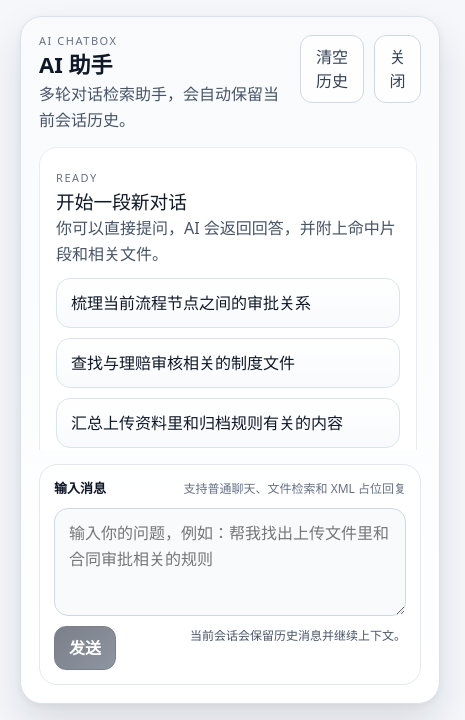
Test: AiAssistantPopover › renders the user message immediately before the assistant reply returns
Type "理赔流程" into the text box with test id "ai-question-input". click: (230, 562)
box: [54,508,406,616]
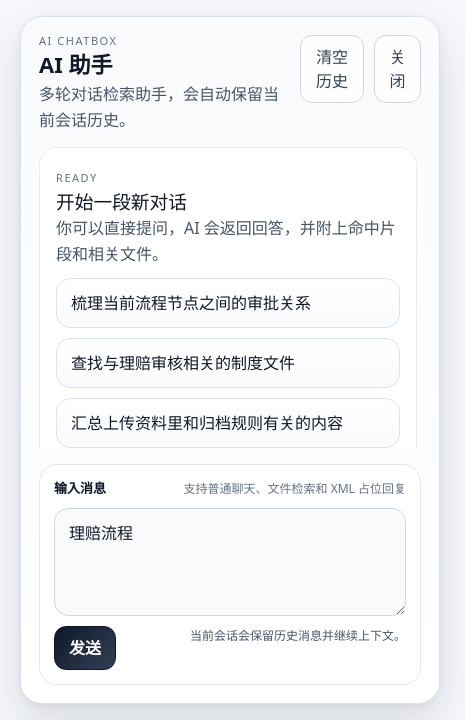
Click the button with test id "ai-submit". click: click(85, 648)
box: [54,626,116,670]
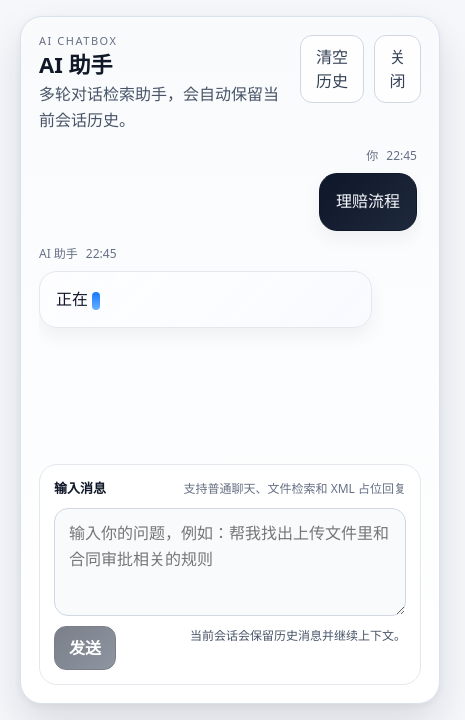
Result: the text "理赔流程" is shown at [336,188,400,216]
Result: the text "正在" is shown at [56,288,88,310]
